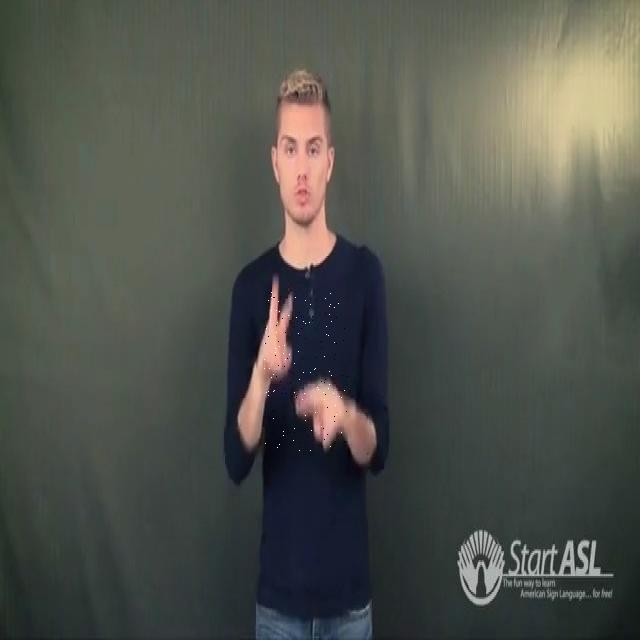salt: (262, 292, 348, 453)
